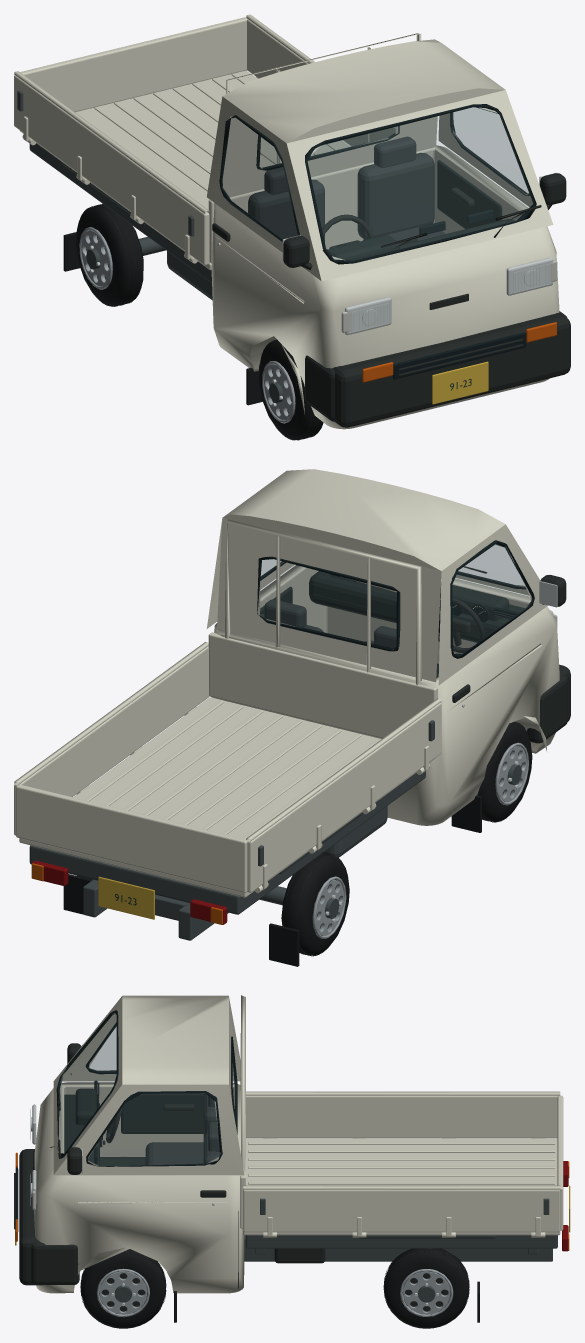
Rendered from kei-truck-lod1.glb.
The picture shows the model from 3 angles, top to bottom: view 1: azimuth 30°, elevation 25°; view 2: azimuth 150°, elevation 25°; view 3: azimuth 270°, elevation 25°; orthographic projection. The views are drawn at different scales.
Visible parts, largest first — view 1: cab pressed lower shell, windshield glass, black pull handle, seat cushion, windshield rubber surround, wheel_rr, floor, wheel_fr, chassis rail, door lock, registration plate, halogen lens (+2 smaller); view 2: cab pressed lower shell, windshield glass, chassis rail, wheel_rr, floor, wheel_fr, windshield rubber surround, mud flap, black pull handle, registration plate, seat cushion, rear stop lamp (+1 smaller); view 3: cab pressed lower shell, windshield glass, chassis rail, black pull handle, wheel_rl, wheel_fl, floor, windshield rubber surround, seat cushion.
Boxes of the visible parts, bbox=[...] form: cab pressed lower shell: bbox=[14, 14, 559, 429]; windshield glass: bbox=[222, 107, 532, 260]; black pull handle: bbox=[212, 173, 570, 427]; seat cushion: bbox=[248, 136, 445, 242]; windshield rubber surround: bbox=[219, 104, 536, 379]; wheel_rr: bbox=[76, 204, 143, 306]; floor: bbox=[327, 160, 515, 260]; wheel_fr: bbox=[259, 339, 323, 440]; chassis rail: bbox=[17, 90, 212, 300]; door lock: bbox=[217, 172, 557, 334]; registration plate: bbox=[432, 361, 488, 404]; halogen lens: bbox=[351, 263, 551, 332]; cab pressed lower shell: bbox=[14, 469, 559, 897]; windshield glass: bbox=[260, 544, 531, 653]; chassis rail: bbox=[29, 720, 434, 940]; wheel_rr: bbox=[281, 853, 349, 956]; floor: bbox=[260, 571, 525, 677]; wheel_fr: bbox=[477, 721, 532, 822]; windshield rubber surround: bbox=[257, 540, 534, 658]; mud flap: bbox=[63, 795, 481, 966]; black pull handle: bbox=[312, 566, 570, 743]; registration plate: bbox=[98, 876, 154, 919]; seat cushion: bbox=[260, 599, 396, 648]; rear stop lamp: bbox=[31, 860, 227, 924]; cab pressed lower shell: bbox=[34, 995, 563, 1293]; windshield glass: bbox=[58, 1013, 235, 1165]; chassis rail: bbox=[157, 1198, 557, 1261]; black pull handle: bbox=[14, 1043, 325, 1285]; wheel_rl: bbox=[383, 1248, 469, 1328]; wheel_fl: bbox=[80, 1249, 166, 1328]; floor: bbox=[64, 1082, 203, 1166]; windshield rubber surround: bbox=[15, 1010, 238, 1288]; seat cushion: bbox=[145, 1093, 220, 1165].
Size of the model in its own units: 1.63 by 1.72 by 3.41.
